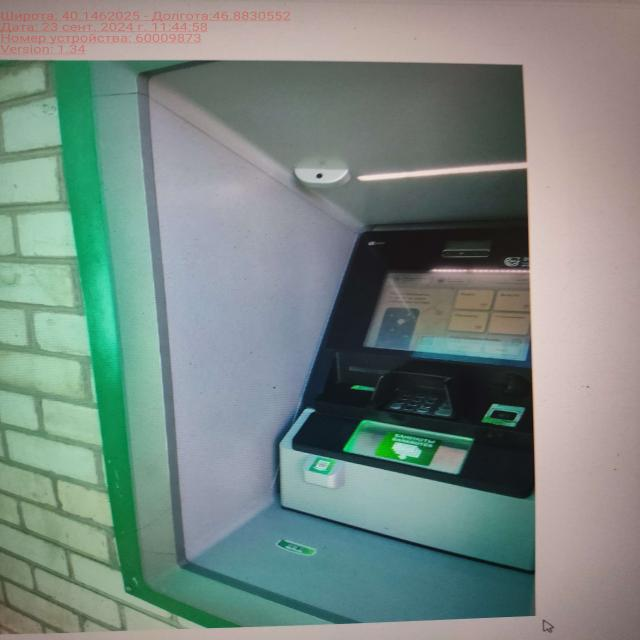bank: (160, 112, 529, 616)
